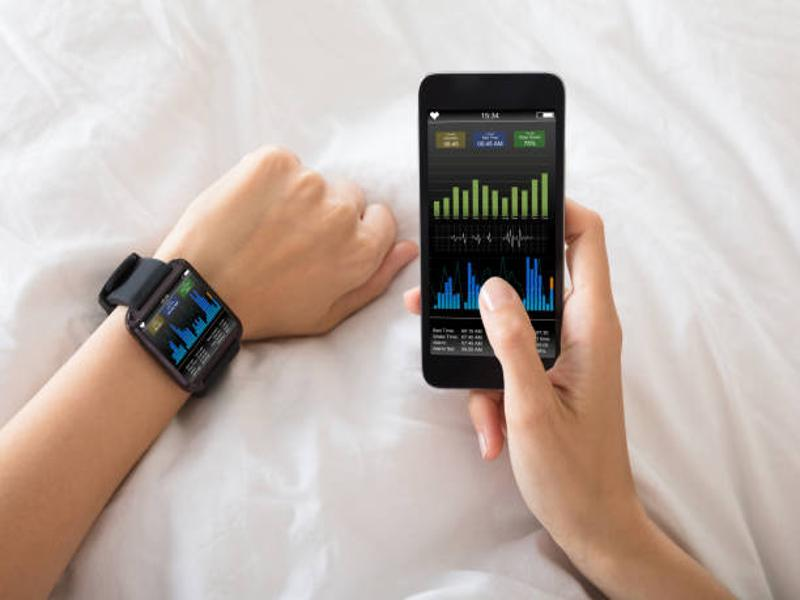watch: (97, 251, 243, 399)
